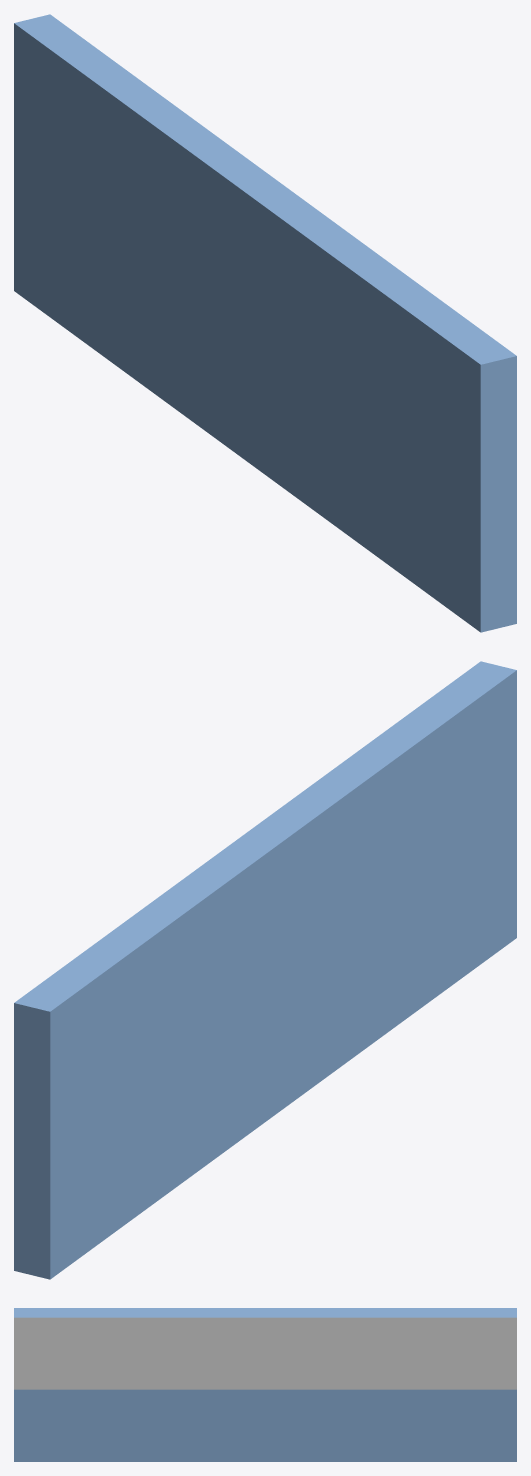
Rendered from OF_Side Wall.fbx.
The picture shows the model from 3 angles, top to bottom: view 1: azimuth 30°, elevation 25°; view 2: azimuth 150°, elevation 25°; view 3: azimuth 270°, elevation 25°; orthographic projection. The views are drawn at different scales.
Parts seen in each view (by area): view 1: Cube.009; view 2: Cube.009; view 3: Cube.009.
Boxes of the visible parts, x1=… form: Cube.009: x1=14, y1=14, x2=516, y2=632; Cube.009: x1=14, y1=661, x2=516, y2=1279; Cube.009: x1=14, y1=1308, x2=516, y2=1461.
Bounding box in the file's own units: 55.11 × 390 × 1231.
